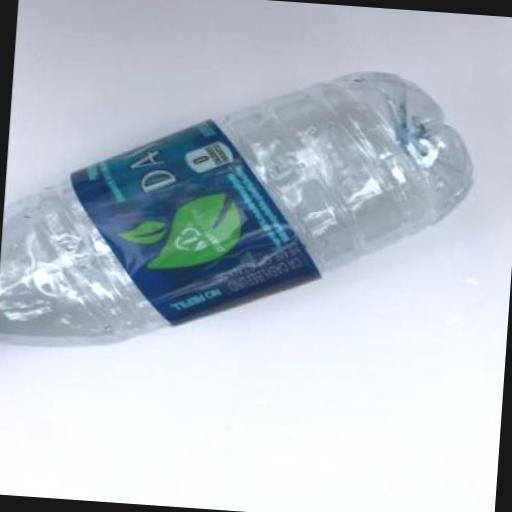plastic: (0, 49, 477, 380)
